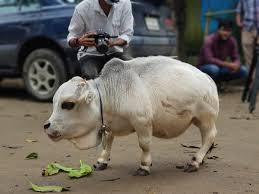cow: (43, 55, 219, 177)
